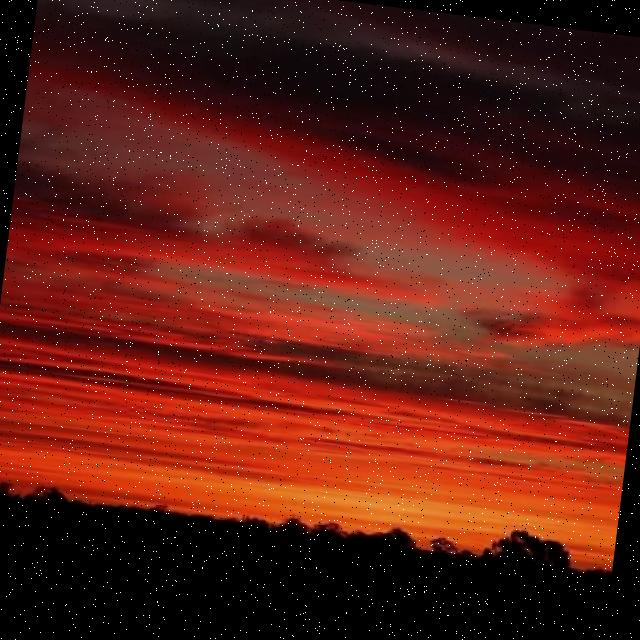As: (2, 1, 640, 366)
